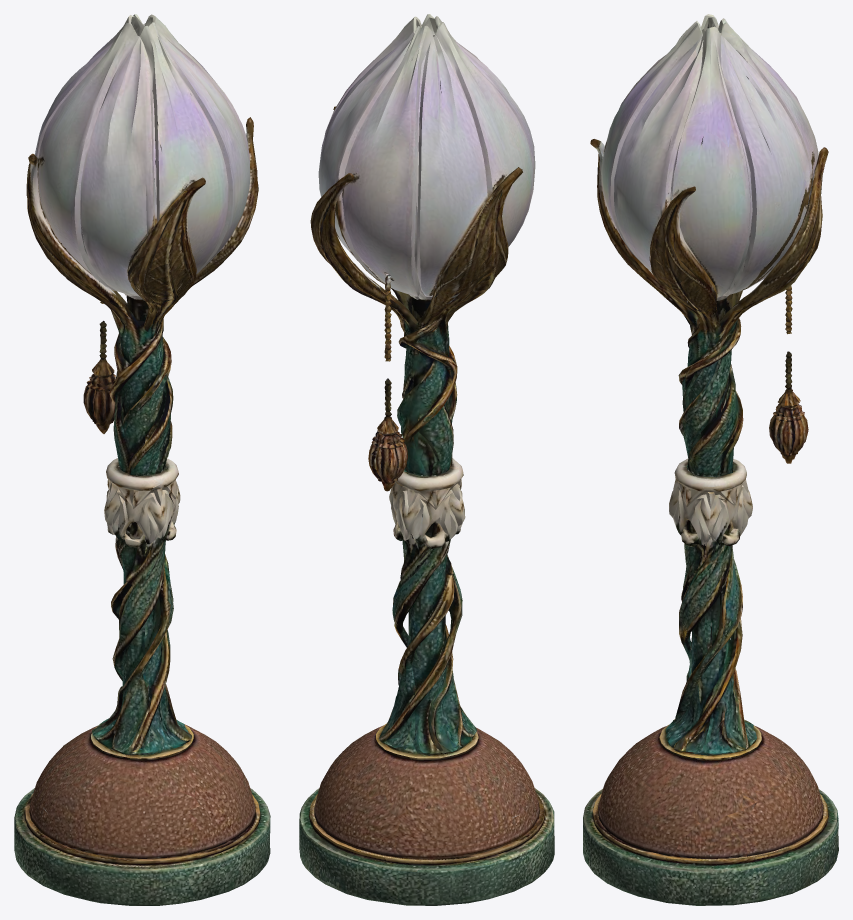
The model's file is ON-00_lamp_game.glb.
3 views of the same model, side by side, from view 1: azimuth 30°, elevation 25°; view 2: azimuth 150°, elevation 25°; view 3: azimuth 270°, elevation 25° (orthographic).
Parts seen in each view (by area): view 1: ON-00_lamp; view 2: ON-00_lamp; view 3: ON-00_lamp.
Part boxes in pixels (x1,y1,x2,y2): ON-00_lamp: [14, 14, 270, 905]; ON-00_lamp: [299, 14, 554, 905]; ON-00_lamp: [583, 14, 838, 905].
Bounding box in the file's own units: 0.1674 × 0.6 × 0.1673.
Materials: 1 (1 with a texture image).
